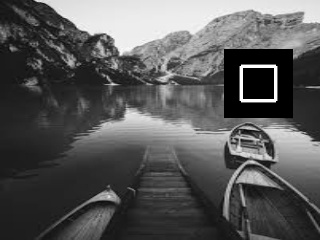square: (224, 49, 293, 118)
